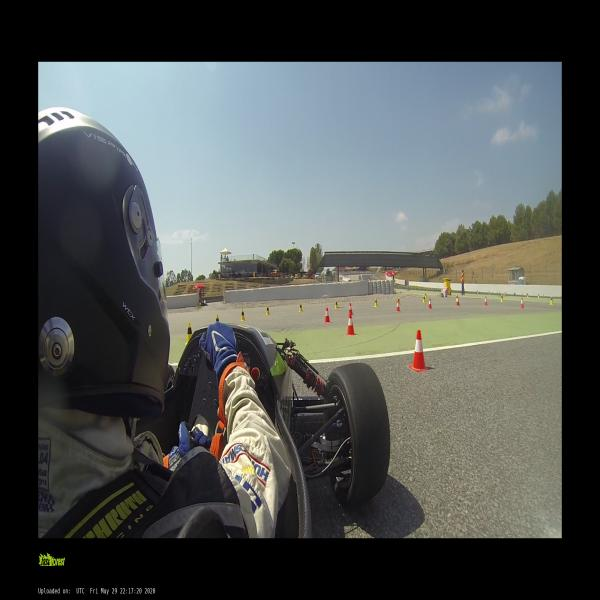orange_cone: (409, 330, 428, 372), (346, 313, 356, 335), (324, 307, 331, 323), (347, 303, 353, 315), (520, 298, 524, 309), (428, 299, 432, 310), (396, 300, 400, 311), (484, 297, 488, 306), (456, 297, 460, 306), (560, 293, 561, 299)
yellow_cone: (187, 322, 192, 342), (240, 309, 245, 321), (298, 302, 303, 312), (266, 306, 270, 315), (334, 300, 338, 309), (374, 298, 378, 307), (500, 294, 503, 302), (550, 296, 553, 304), (423, 294, 426, 302), (216, 314, 219, 322), (398, 297, 400, 303), (538, 293, 540, 298), (424, 293, 426, 298), (526, 293, 528, 297), (456, 294, 457, 301)
